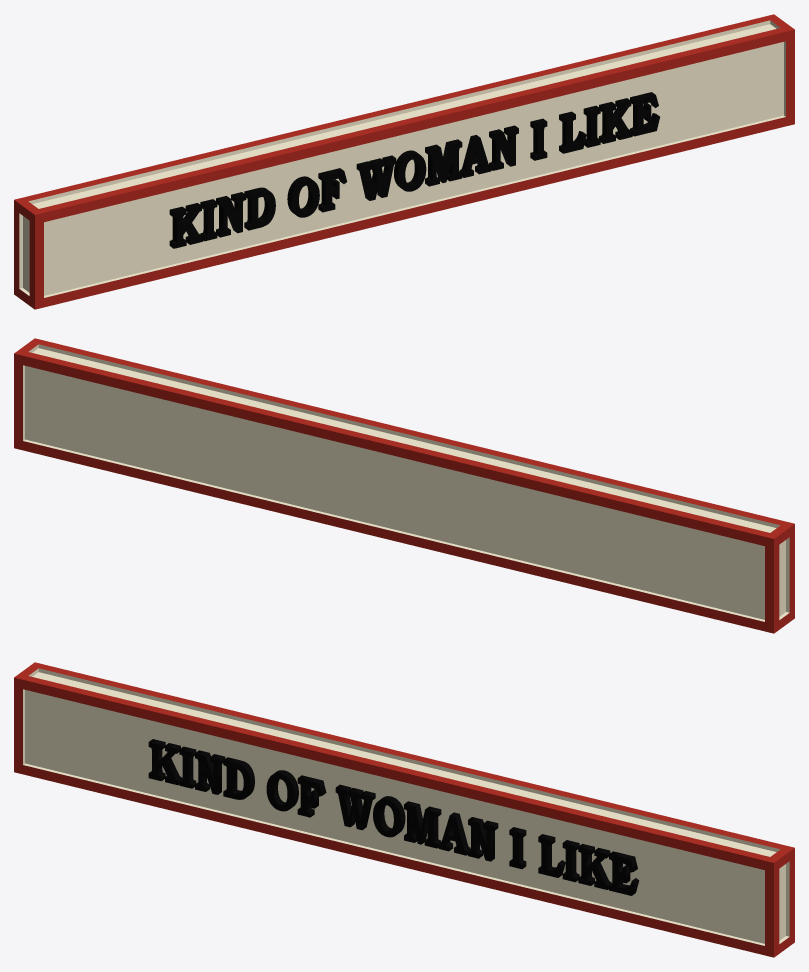
File: kindOfWomanILike.glb
3 views of the same model, one above another, from view 1: azimuth 30°, elevation 25°; view 2: azimuth 150°, elevation 25°; view 3: azimuth 330°, elevation 25° (orthographic).
Visible parts, largest first — view 1: Button.013, Text.011; view 2: Button.013; view 3: Button.013, Text.011.
Boxes of the visible parts, x1,y1,x2,y2 form: Button.013: [14, 14, 794, 309]; Text.011: [169, 92, 659, 248]; Button.013: [14, 338, 794, 633]; Button.013: [14, 662, 794, 957]; Text.011: [148, 739, 639, 895].
Size of the model in its own units: 10.5 by 1.25 by 0.5501.
